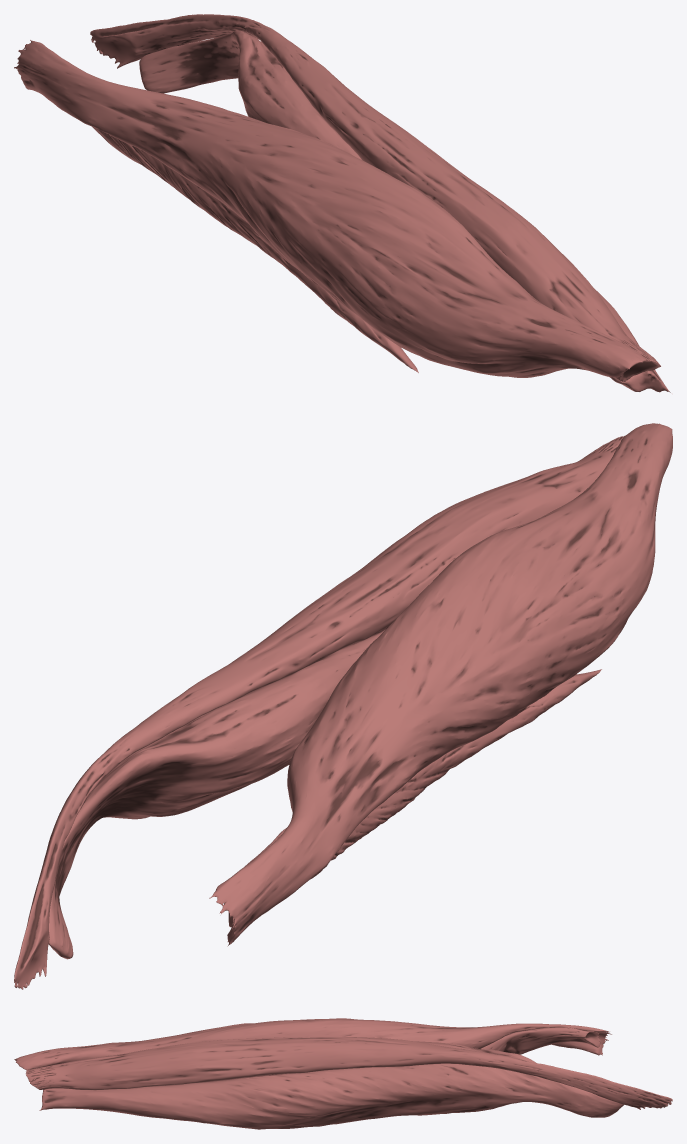
File: hamstrings.361123244e.glb
3 renders of one model, top to bottom at view 1: azimuth 30°, elevation 25°; view 2: azimuth 150°, elevation 25°; view 3: azimuth 270°, elevation 25°, orthographic. The views are drawn at different scales.
Visible parts, largest first — view 1: FMA45888, FMA22358, FMA22448, FMA45891; view 2: FMA45888, FMA22358, FMA22448, FMA45891; view 3: FMA22448, FMA22358, FMA45888, FMA45891.
Part boxes in pixels (x1,y1,x2,y2): FMA45888: [14, 40, 647, 377]; FMA22358: [90, 14, 660, 381]; FMA22448: [139, 30, 670, 392]; FMA45891: [64, 59, 418, 372]; FMA45888: [209, 423, 672, 946]; FMA22358: [14, 436, 624, 989]; FMA22448: [48, 629, 385, 959]; FMA45891: [228, 669, 601, 927]; FMA22448: [39, 1041, 623, 1129]; FMA22358: [25, 1037, 672, 1109]; FMA45888: [14, 1018, 611, 1070]; FMA45891: [481, 1027, 600, 1054].
Size of the model in its own units: 109 by 59.71 by 452.
